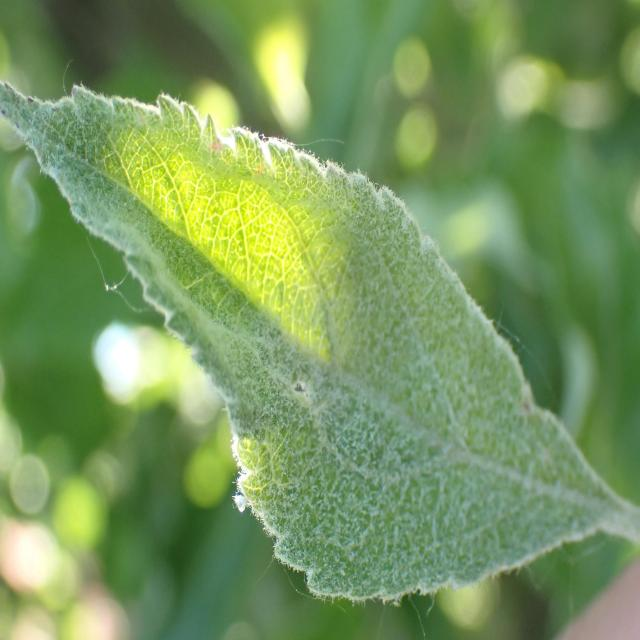Powdery_mildew: (0, 79, 640, 611)
